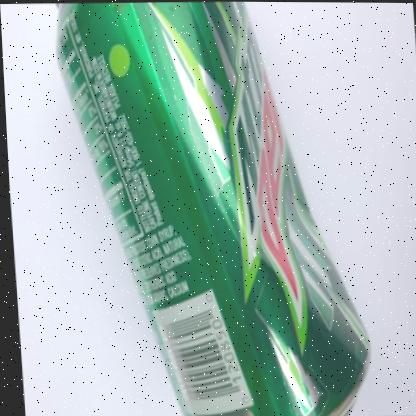Metal: (56, 1, 366, 416)
